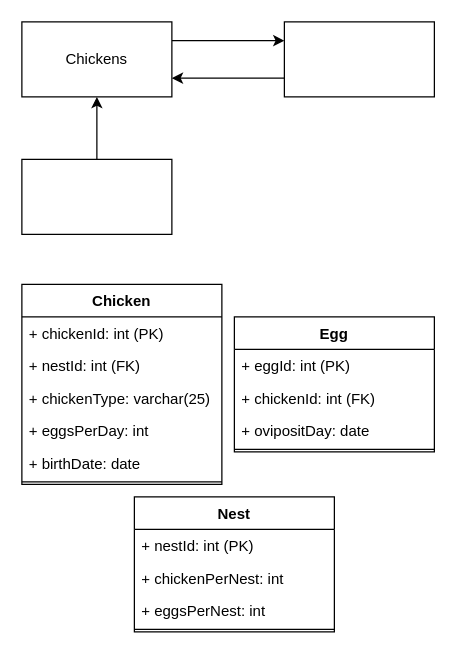
The diagram is 456 pixels wide and 654 high, and some of its shapes have lost their labels. Each missing label, with the box of its shape:
Eggs: (283, 21, 434, 97)
Nests: (21, 158, 172, 234)
